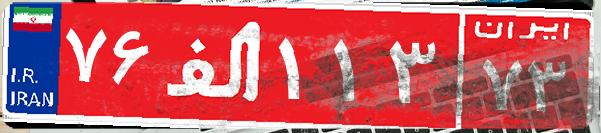1: (273, 28, 330, 110), (330, 28, 385, 110)
3: (385, 28, 445, 110), (525, 38, 570, 115)
6: (110, 28, 158, 105)
7: (57, 26, 110, 107), (475, 38, 525, 113)
الف: (158, 15, 273, 115)
